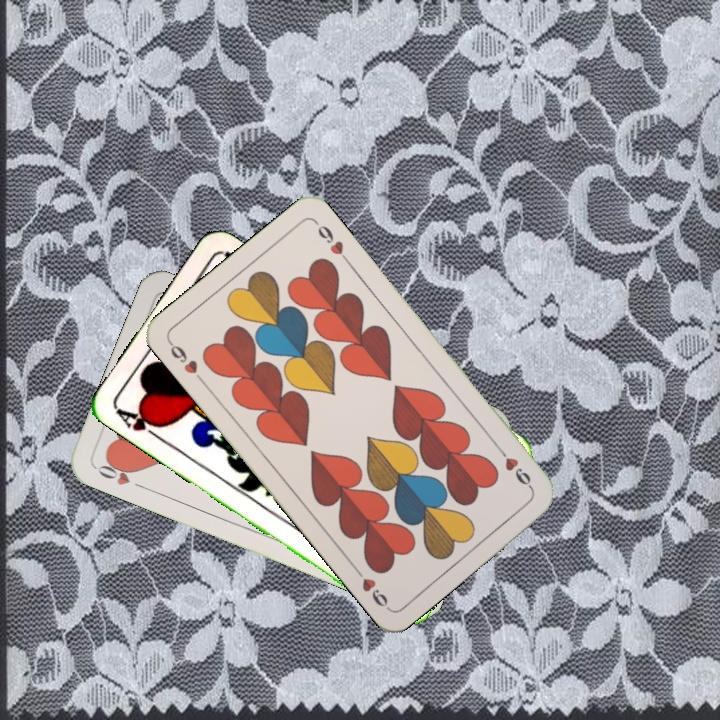H9: (164, 337, 207, 386), (494, 443, 535, 492)
HA: (113, 404, 166, 444)
HO: (92, 455, 148, 492)
